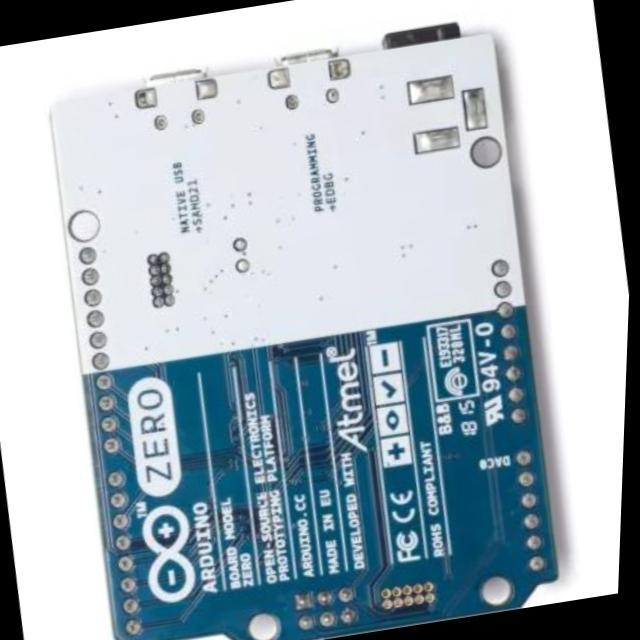Arduino-Zero: (52, 24, 558, 640)
